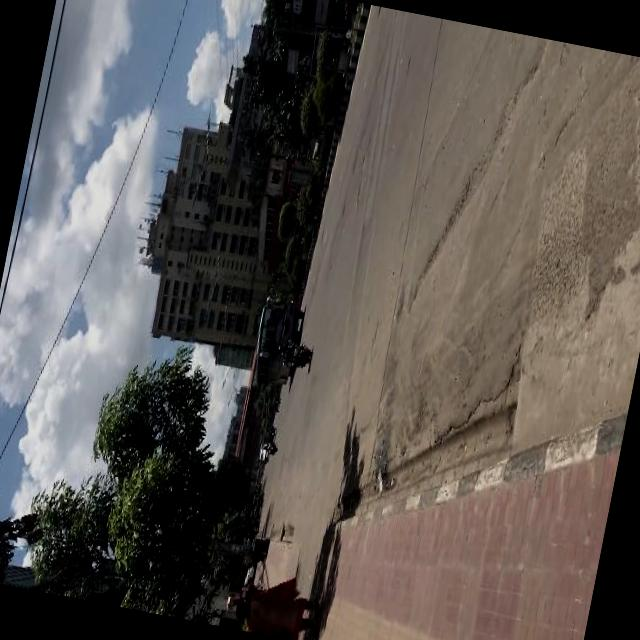bus: (247, 289, 307, 386)
motorcycle: (278, 336, 314, 371), (266, 392, 282, 409), (262, 424, 277, 442), (250, 488, 264, 506), (261, 438, 278, 452)
truck: (257, 446, 269, 461)
